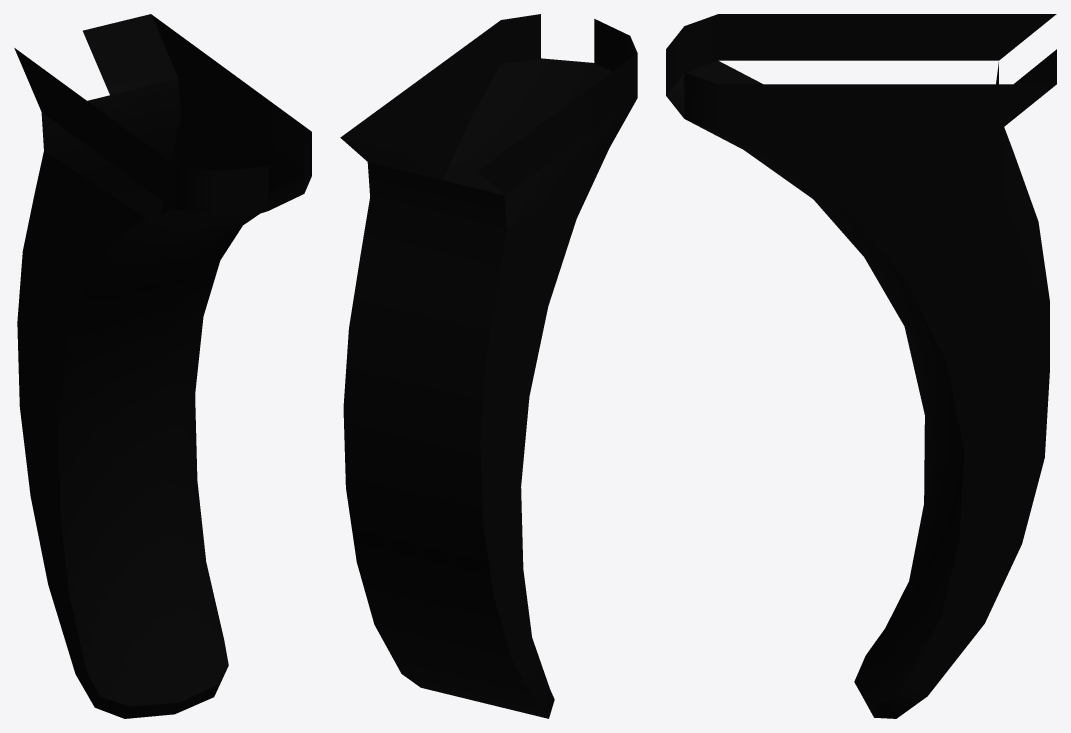
The model's file is M4_BaseTrigger.fbx.
3 views of the same model, side by side, from view 1: azimuth 30°, elevation 25°; view 2: azimuth 150°, elevation 25°; view 3: azimuth 270°, elevation 25° (orthographic). The views are drawn at different scales.
Parts seen in each view (by area): view 1: BaseTrigger; view 2: BaseTrigger; view 3: BaseTrigger.
Part boxes in pixels (x1,y1,x2,y2): BaseTrigger: (14,14,311,718); BaseTrigger: (340,14,637,718); BaseTrigger: (666,14,1056,718).
Bounding box in the file's own units: 0.6196 × 2.66 × 1.45.
1 material, 1 textured.
